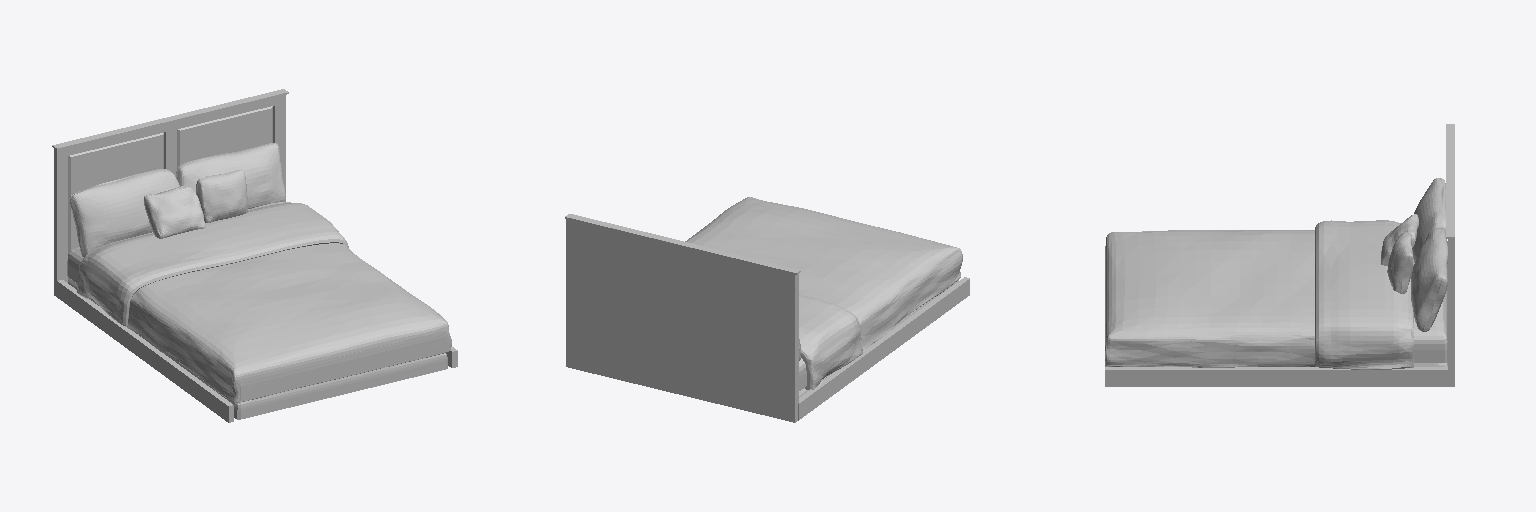
File: bed.obj
The picture shows the model from 3 angles: view 1: azimuth 30°, elevation 25°; view 2: azimuth 150°, elevation 25°; view 3: azimuth 270°, elevation 25°; orthographic projection.
Parts seen in each view (by area): view 1: blanket_Blanket_NA, bed_body, bellow3_bellow3_NA, bed_side.001, bed_side_bed_side.002, bellow3.001_bellow3_NA.001, martaba_martaba_NA, bellow1_bellow1_NA, bellow2_bellow2_NA; view 2: bed_body, blanket_Blanket_NA, bed_side_bed_side.002; view 3: blanket_Blanket_NA, bed_side.002_bed_side, bellow3.001_bellow3_NA.001, bed_body, martaba_martaba_NA, bellow3_bellow3_NA, bellow2_bellow2_NA, bellow1_bellow1_NA.
Part boxes in pixels (x1,y1,x2,y2): blanket_Blanket_NA: (77,202,451,402); bed_body: (52,89,288,296); bellow3_bellow3_NA: (69,169,179,257); bed_side.001: (68,279,447,419); bed_side_bed_side.002: (57,280,233,422); bellow3.001_bellow3_NA.001: (176,143,285,208); martaba_martaba_NA: (67,247,445,399); bellow1_bellow1_NA: (144,186,205,238); bellow2_bellow2_NA: (196,169,248,222); bed_body: (565,214,800,422); blanket_Blanket_NA: (685,197,962,389); bed_side_bed_side.002: (798,277,969,420); blanket_Blanket_NA: (1105,220,1413,369); bed_side.002_bed_side: (1105,367,1448,386); bellow3.001_bellow3_NA.001: (1411,228,1447,331); bed_body: (1446,124,1454,386); martaba_martaba_NA: (1105,241,1447,362); bellow3_bellow3_NA: (1413,178,1445,262); bellow2_bellow2_NA: (1387,232,1412,293); bellow1_bellow1_NA: (1381,214,1418,265).
Size of the model in its own units: 7.44 by 4.58 by 9.7.